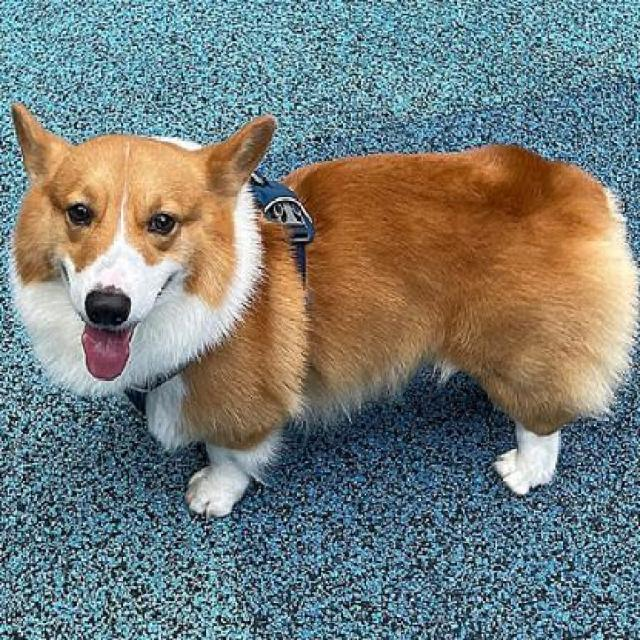Dog: (7, 94, 638, 520)
